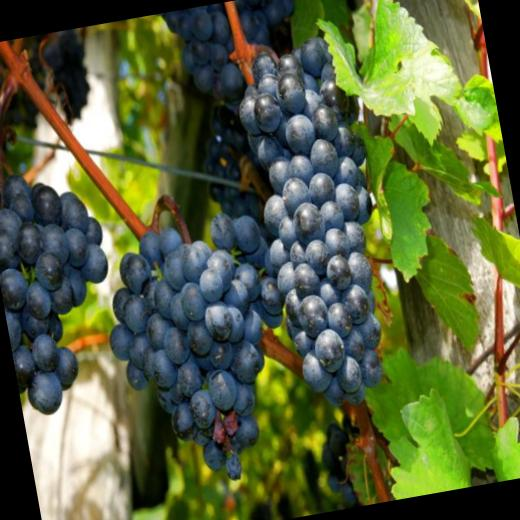Orange: (56, 0, 418, 497), (0, 157, 131, 419), (314, 411, 371, 511)
